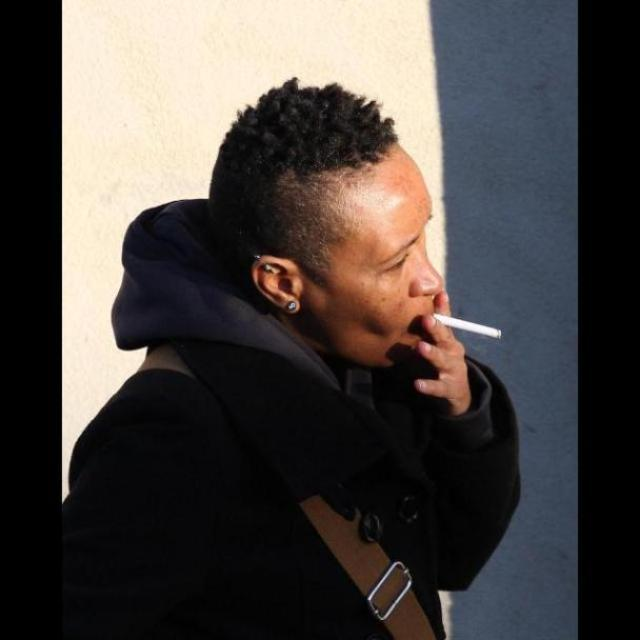rokok: (419, 305, 506, 345)
